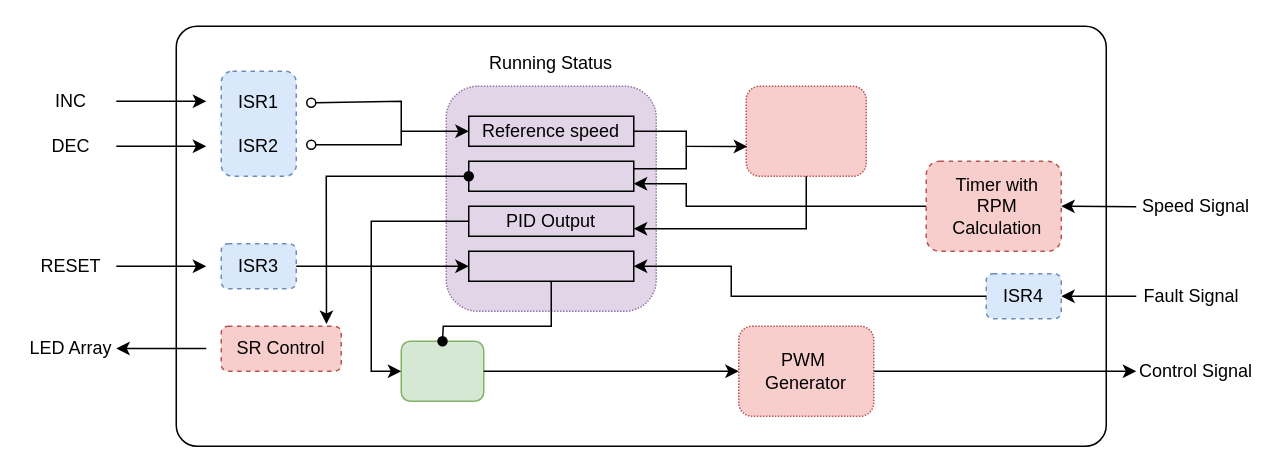
This 1281x473 diagram has some shape labels left out. The centre of each missing label's shape, as x and y in pixels:
"Current RPM" goes at [550,175].
"Fault check" goes at [442,370].
"Fault Status" goes at [550,265].
"PID Controller" goes at [805,130].
